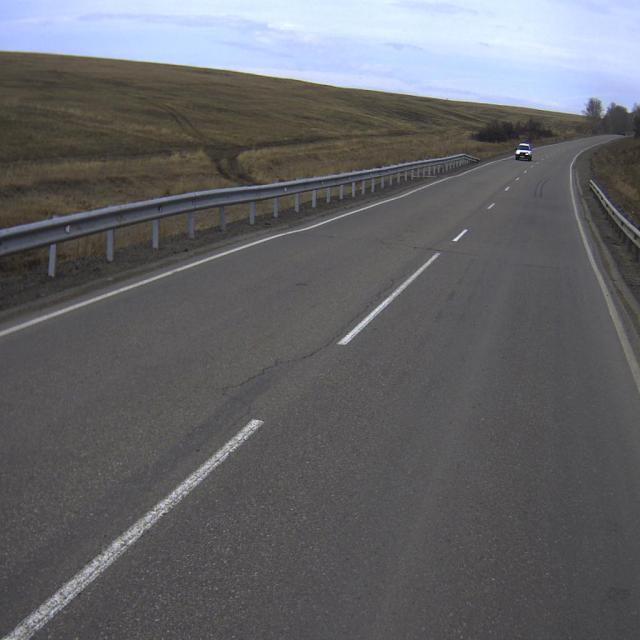road: (0, 136, 640, 639)
